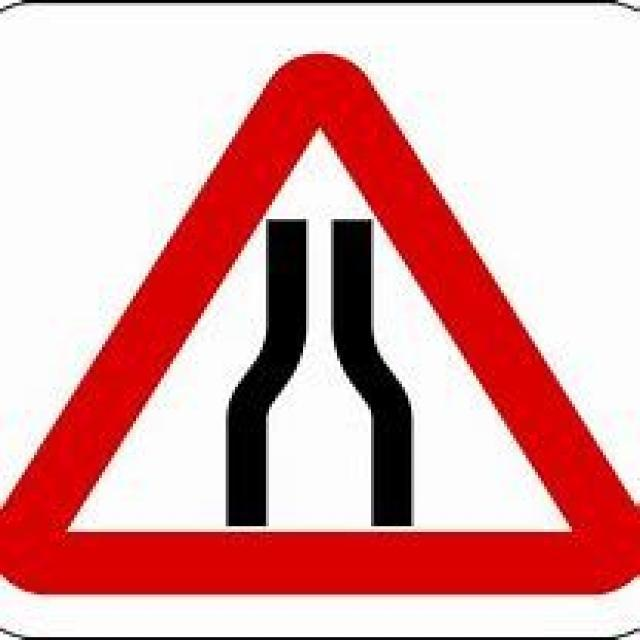narrow road ahead: (20, 58, 625, 592)
